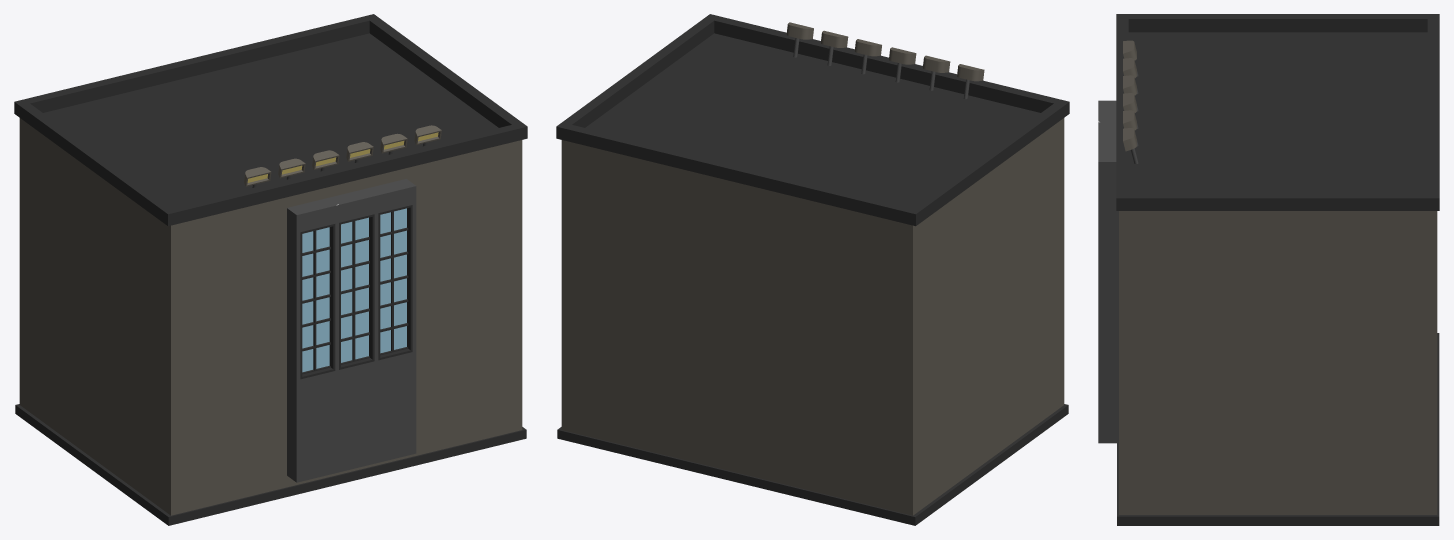
3 views of the same model, side by side, from view 1: azimuth 30°, elevation 25°; view 2: azimuth 150°, elevation 25°; view 3: azimuth 270°, elevation 25° (orthographic). The views are drawn at different scales.
Visible parts, largest first — view 1: Cube.025; view 2: Cube.025; view 3: Cube.025.
Boxes of the visible parts, box(x1,y1,x2,y2) form: Cube.025: box(14, 14, 527, 525); Cube.025: box(556, 14, 1069, 525); Cube.025: box(1098, 14, 1439, 525).
Bounding box in the file's own units: 4229 × 3691 × 3309.
